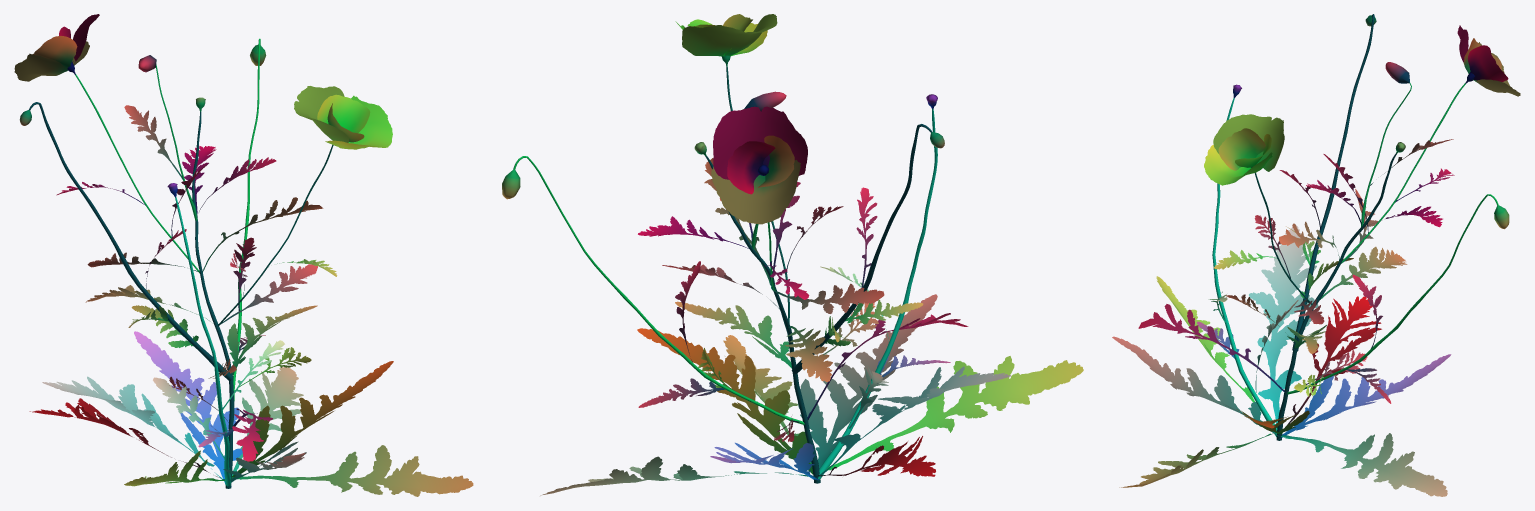
File: Field_Poppy_vmcobd0ja_Raw_vmcobd0ja_VarB_LOD0.fbx
The picture shows the model from 3 angles, left to right: view 1: azimuth 30°, elevation 25°; view 2: azimuth 150°, elevation 25°; view 3: azimuth 270°, elevation 25°; orthographic projection. The views are drawn at different scales.
Visible parts, largest first — view 1: _6qo8_VarB_High; view 2: _6qo8_VarB_High; view 3: _6qo8_VarB_High.
Part boxes in pixels (x1=…): _6qo8_VarB_High: x1=14, y1=14, x2=473, y2=496; _6qo8_VarB_High: x1=502, y1=14, x2=1083, y2=495; _6qo8_VarB_High: x1=1112, y1=14, x2=1520, y2=496.
Bounding box in the file's own units: 40.64 × 47.02 × 45.26.
